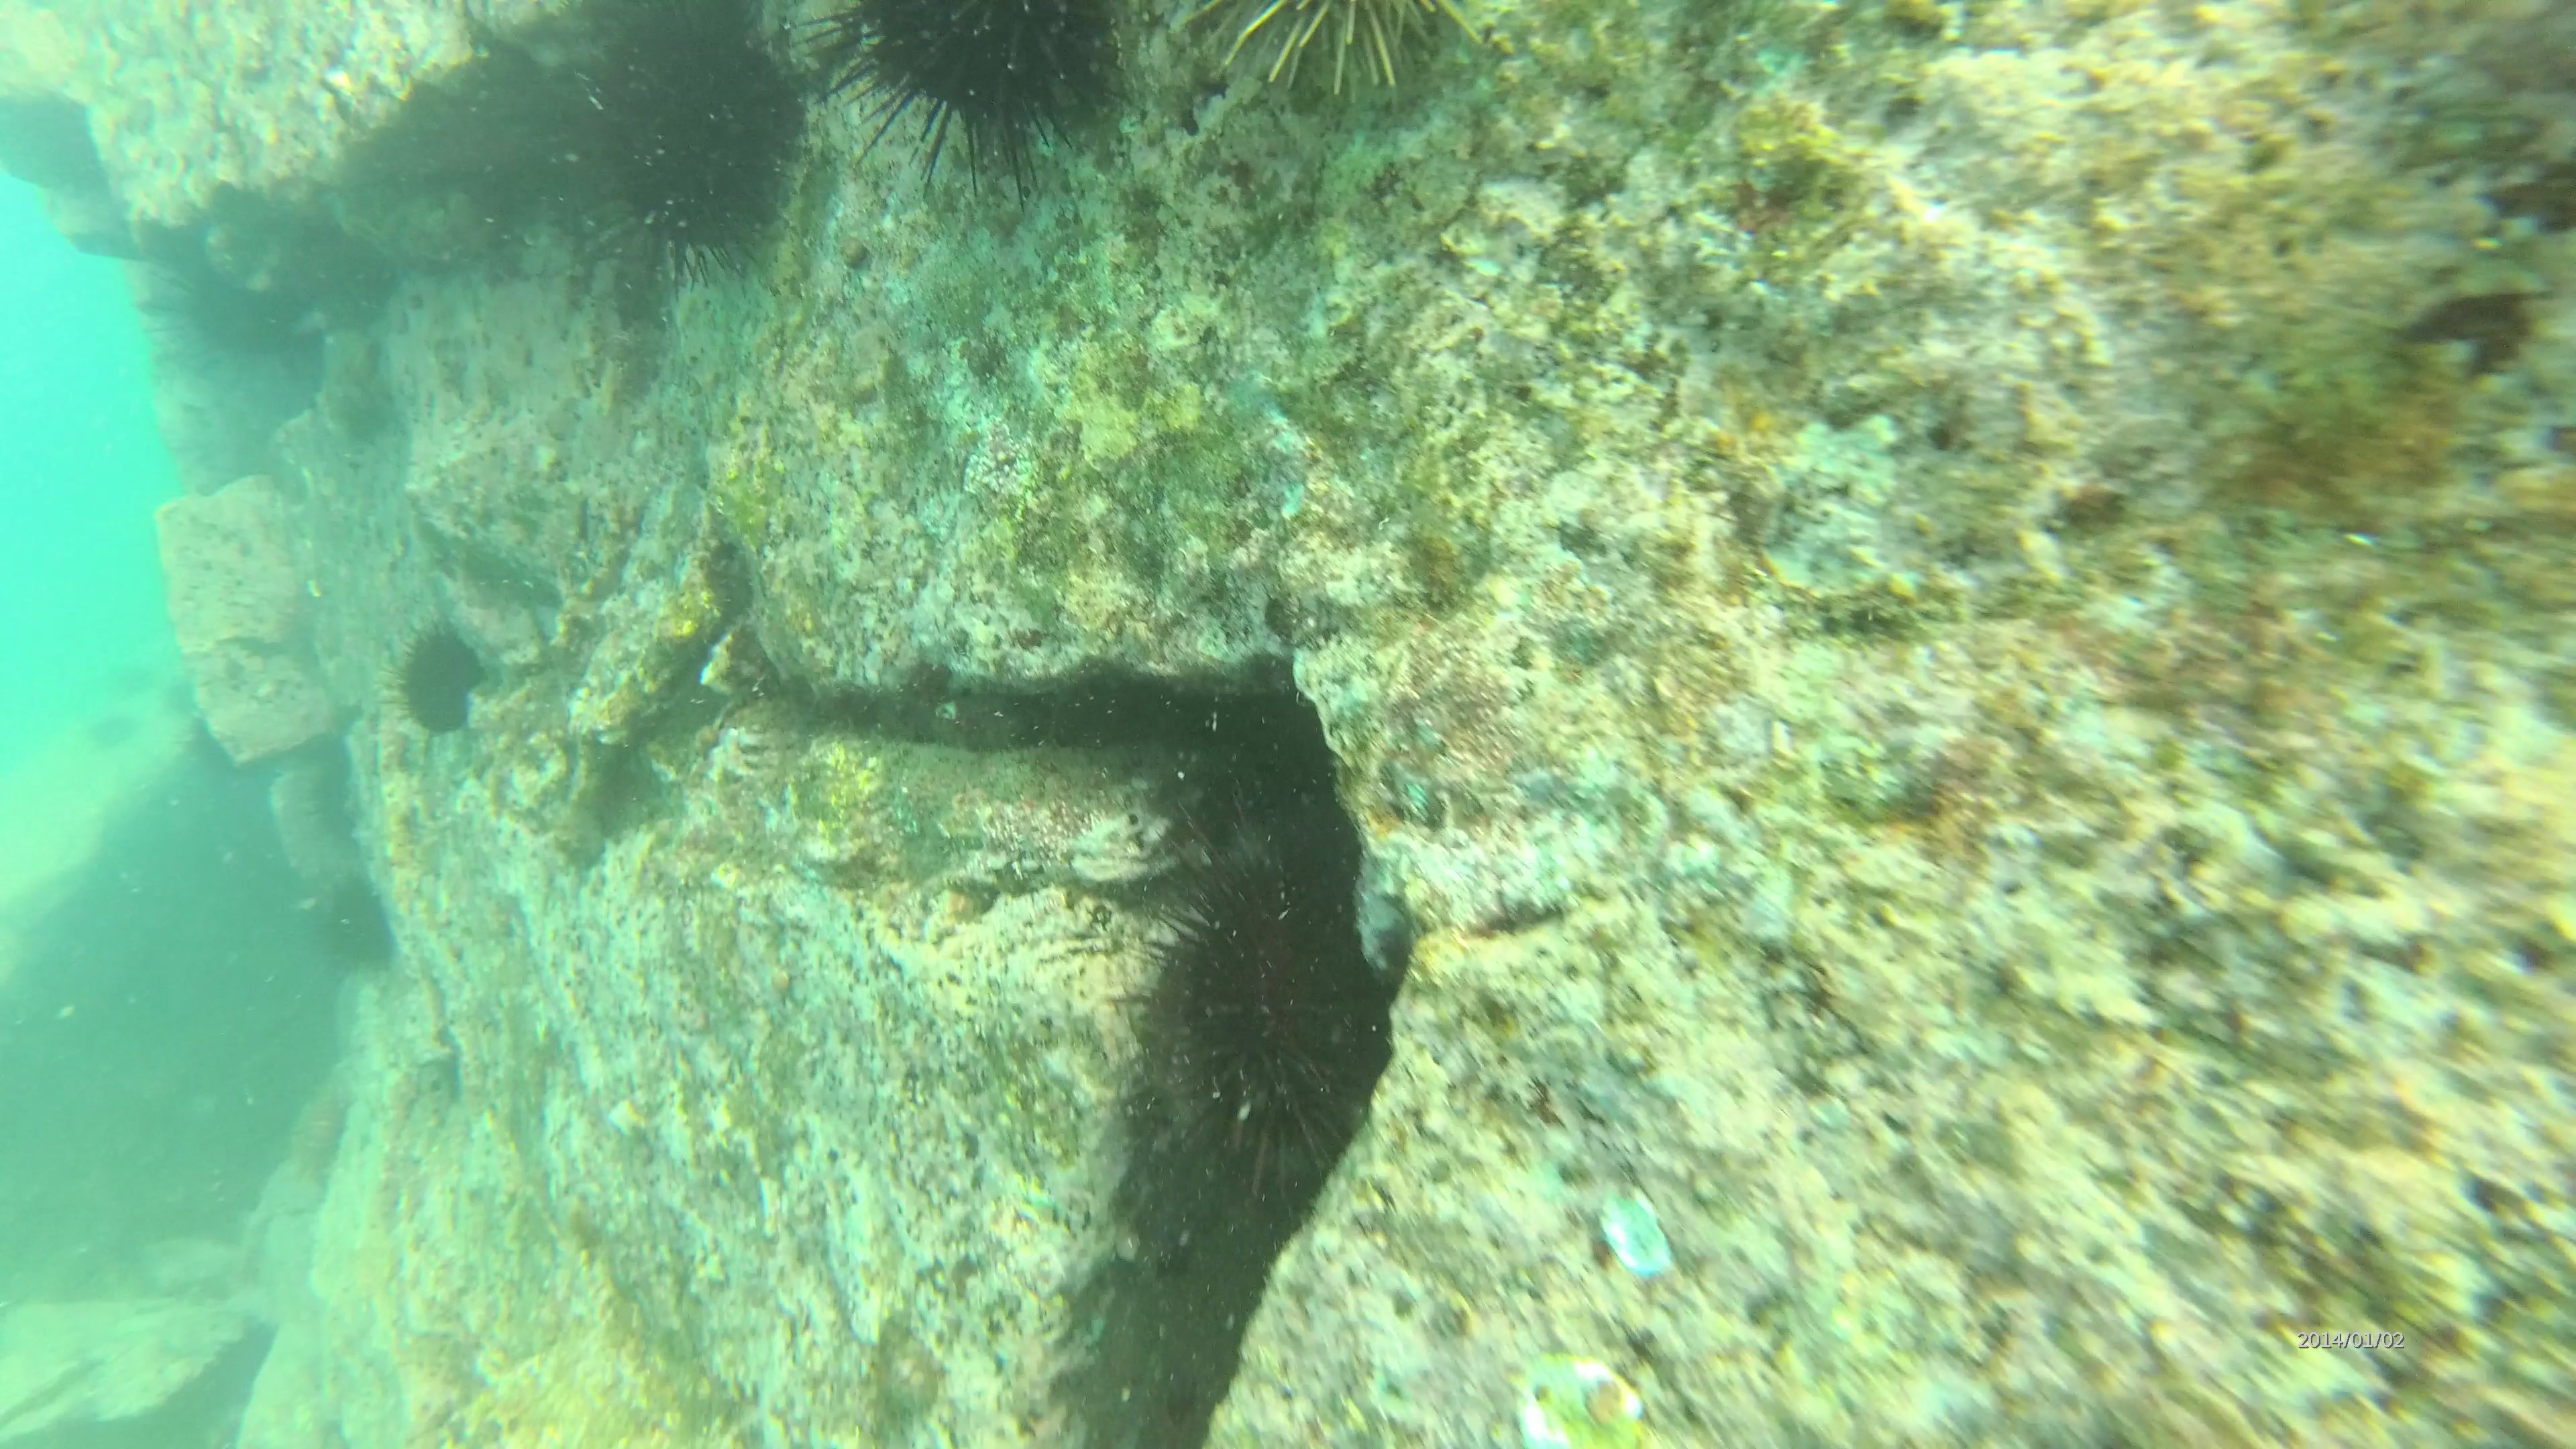echinus: (1099, 786, 1392, 1182), (552, 11, 837, 280), (867, 0, 1118, 198), (1185, 0, 1484, 115), (377, 617, 494, 731), (308, 869, 391, 970)
